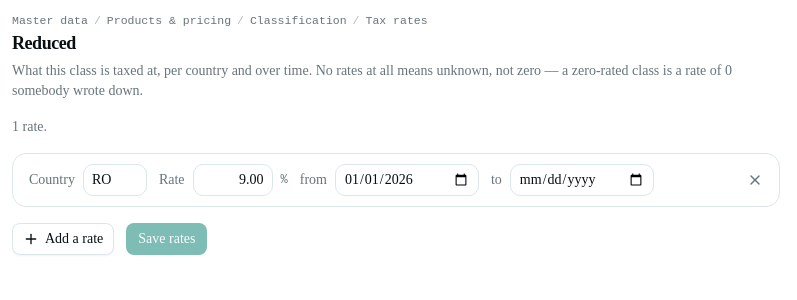
Test: <TaxRates> › refuses a window that ends before it starts
Expected: the button "Save rates" is shown, [126,223,208,255]
In the date field named "Applies until, rate 1": [582, 180] box [510,164,654,196], type "2026-01-01"
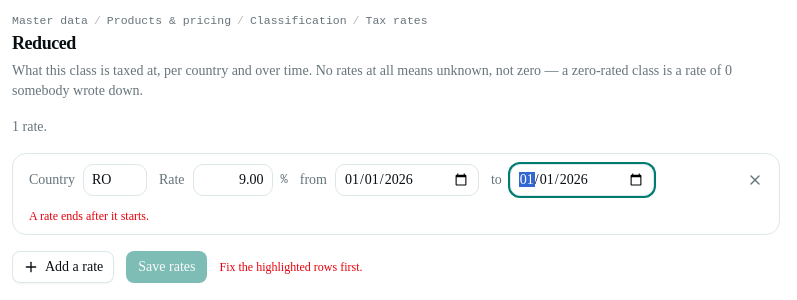
Expected: the button "Save rates" is disabled, [126,251,208,283]
Result: the text "A rate ends after it starts." is shown at [29,209,149,223]
